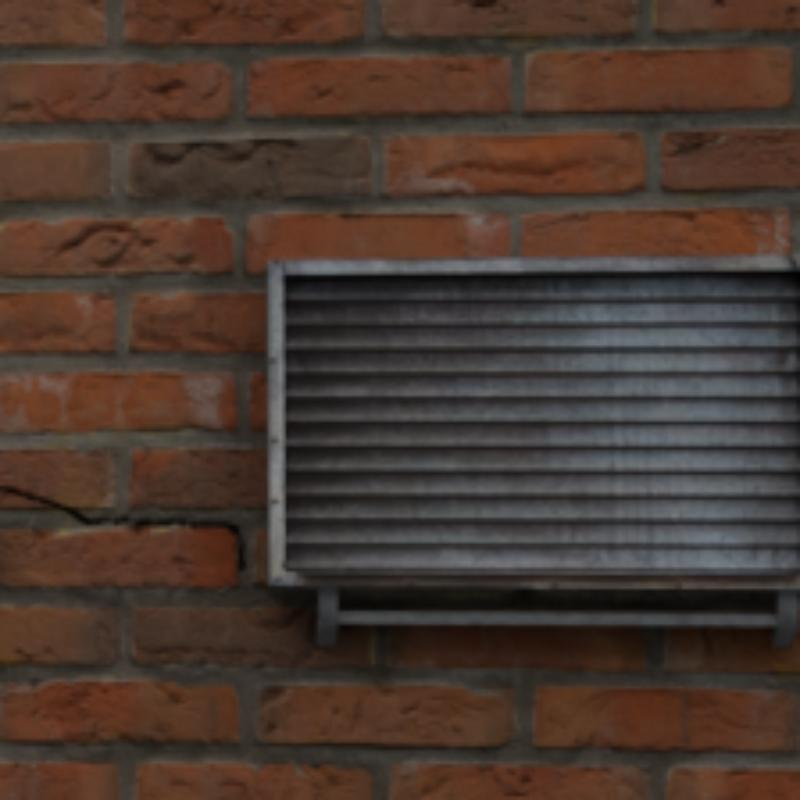crack: (0, 486, 246, 571)
